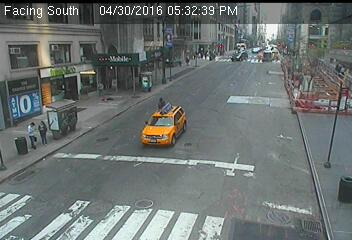neg: (124, 41, 148, 73), (155, 63, 169, 82), (157, 40, 171, 59)
pos: (33, 117, 54, 144), (21, 122, 42, 149)
